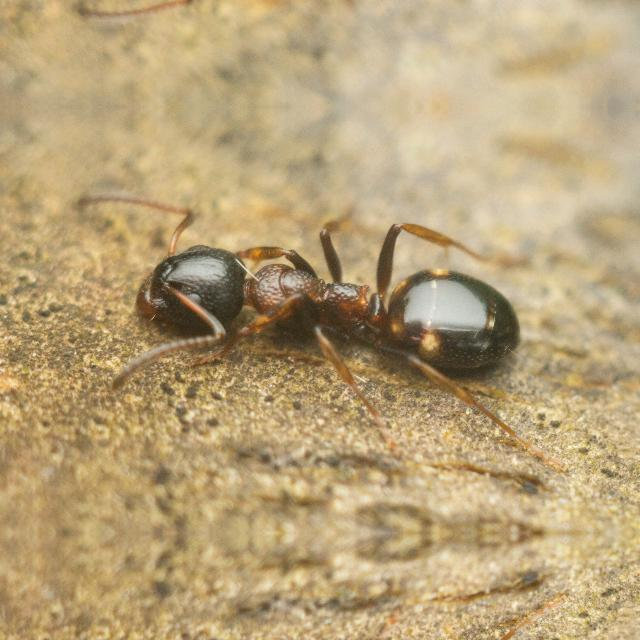Dolichoderus: (108, 200, 554, 410)
